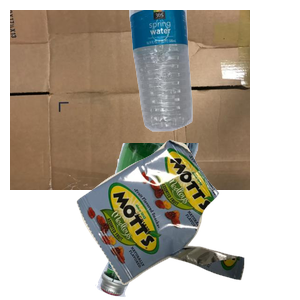cardboard: (10, 10, 250, 190)
glass: (93, 143, 284, 300)
plastic: (127, 10, 300, 134)
trash: (74, 137, 300, 300)
